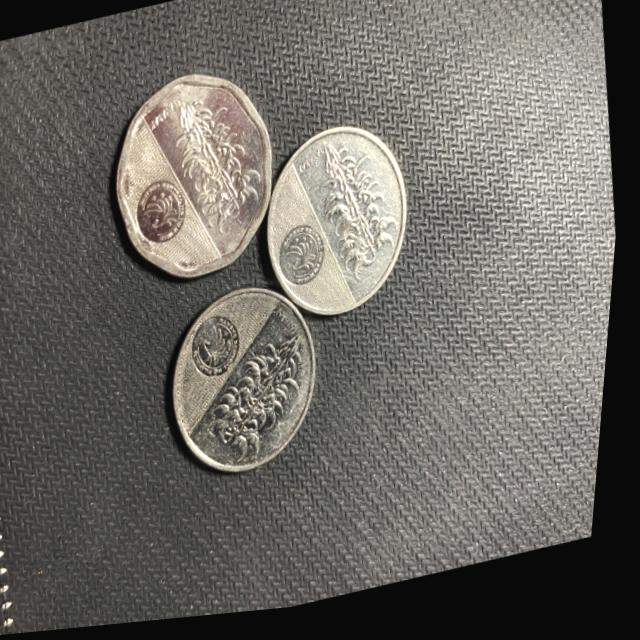5_New_Back: (169, 97, 273, 247), (314, 133, 412, 288), (211, 342, 319, 462)
